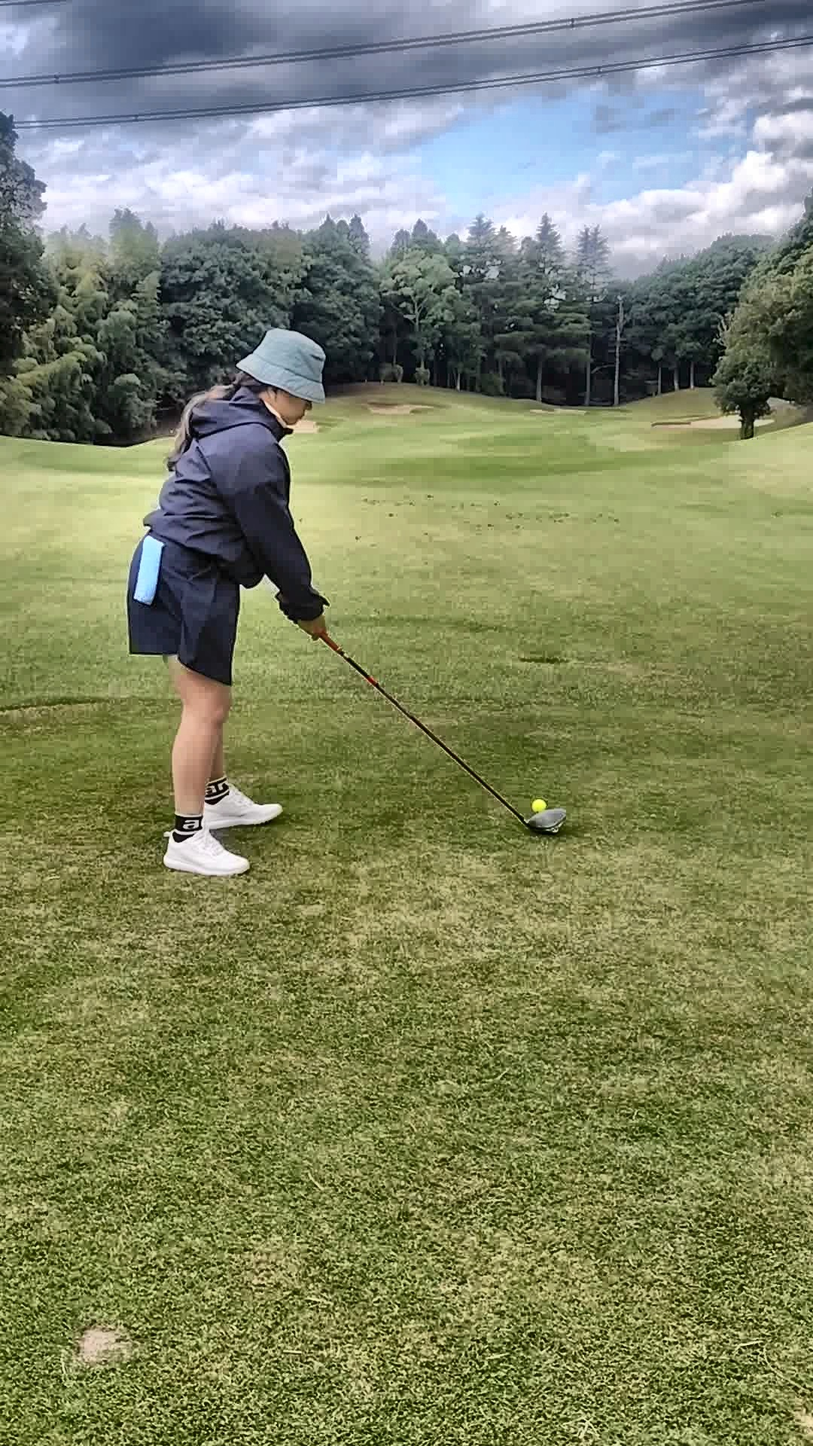clubhead: (469, 751, 652, 898)
